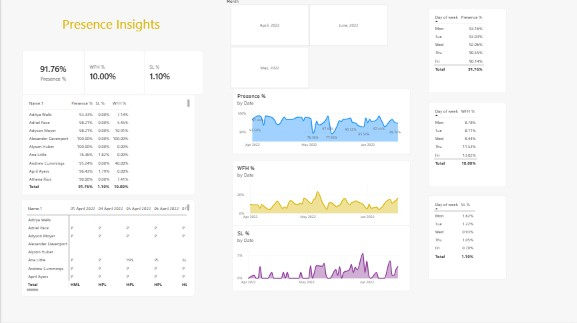

What the dashboard file says about the page in this screenshot:
{"tool":"powerbi","page":{"name":"Page 1","canvas":[1920,1080],"ordinal":0},"visuals":[{"type":"card","fields":{"Values":["Measure Table.Presence %"]},"box":[68.9,173.3,206.7,146.7],"z":0},{"type":"slicer","fields":{"Values":["Final Data.Month"]},"box":[744.4,0,564,300],"z":1000},{"type":"cardVisual","fields":{"Data":["Measure Table.WFH %"]},"box":[275.6,173.3,200,146.7],"z":2000},{"type":"cardVisual","fields":{"Data":["Measure Table.SL %"]},"box":[475.6,173.3,195.6,146.7],"z":3000},{"type":"tableEx","fields":{"Values":["Final Data.Name.1","Measure Table.Presence %","Measure Table.SL %","Measure Table.WFH %"]},"box":[68.9,320,575.6,335.6],"z":4000},{"type":"textbox","box":[45.2,52.4,700,81],"z":5000},{"type":"pivotTable","fields":{"Rows":["Final Data.Name.1"],"Values":["Min(Final Data.Value)"],"Columns":["Final Data.Date"]},"box":[66.7,671.1,577.8,322.2],"z":6000},{"type":"stackedAreaChart","fields":{"Category":["Final Data.Date"],"Y":["Measure Table.Presence %"]},"box":[768.9,300,593.3,217.8],"z":7000},{"type":"stackedAreaChart","fields":{"Category":["Final Data.Date"],"Y":["Measure Table.WFH %"]},"box":[768.9,540,593.3,217.8],"z":8000},{"type":"stackedAreaChart","fields":{"Category":["Final Data.Date"],"Y":["Measure Table.SL %"]},"box":[768.9,757.8,593.3,217.8],"z":9000},{"type":"tableEx","fields":{"Values":["Final Data.Day of week","Measure Table.Presence %"]},"box":[1422.2,33.3,260,280],"z":10000},{"type":"tableEx","fields":{"Values":["Final Data.Day of week","Measure Table.WFH %"]},"box":[1422.5,347.5,260,280],"z":11000},{"type":"tableEx","fields":{"Values":["Final Data.Day of week","Measure Table.SL %"]},"box":[1422.5,655,260,280],"z":12000}]}

Visuals, with their boxes in screenshot pixels (x1, y1, x2, y2), scaled from the page's 1920x1080 canvas onto the 577x323 screenshot:
card - Measure Table.Presence %: (left=21, top=52, right=83, bottom=96)
slicer - Final Data.Month: (left=224, top=0, right=393, bottom=90)
cardVisual - Measure Table.WFH %: (left=83, top=52, right=143, bottom=96)
cardVisual - Measure Table.SL %: (left=143, top=52, right=202, bottom=96)
tableEx - Final Data.Name.1 x Measure Table.Presence %: (left=21, top=96, right=194, bottom=196)
textbox: (left=14, top=16, right=224, bottom=40)
pivotTable - Final Data.Name.1 x Min(Final Data.Value): (left=20, top=201, right=194, bottom=297)
stackedAreaChart - Final Data.Date x Measure Table.Presence %: (left=231, top=90, right=409, bottom=155)
stackedAreaChart - Final Data.Date x Measure Table.WFH %: (left=231, top=162, right=409, bottom=227)
stackedAreaChart - Final Data.Date x Measure Table.SL %: (left=231, top=227, right=409, bottom=292)
tableEx - Final Data.Day of week x Measure Table.Presence %: (left=427, top=10, right=506, bottom=94)
tableEx - Final Data.Day of week x Measure Table.WFH %: (left=427, top=104, right=506, bottom=188)
tableEx - Final Data.Day of week x Measure Table.SL %: (left=427, top=196, right=506, bottom=280)
